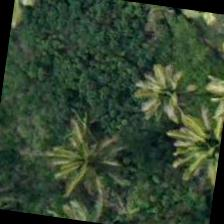Kelapa_Sawit: (32, 106, 134, 208), (111, 36, 213, 138), (158, 94, 223, 193)
